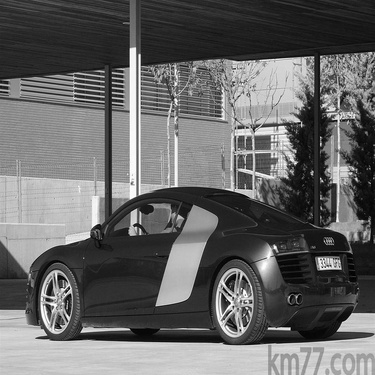car: (28, 161, 365, 338)
